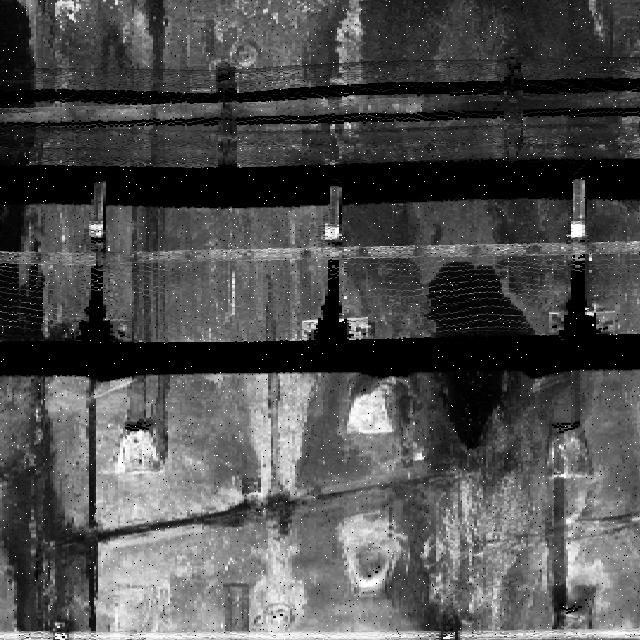leakage: (309, 5, 626, 483), (1, 385, 88, 632), (1, 1, 56, 348), (135, 1, 167, 438), (213, 62, 246, 172)
